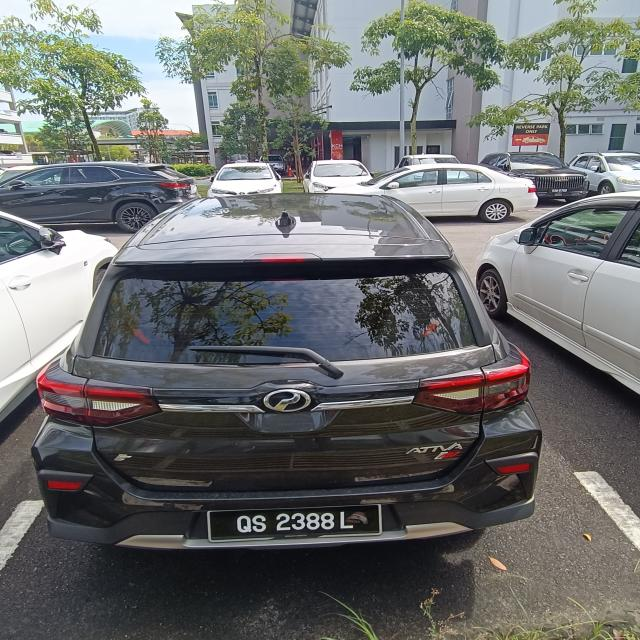PeroduaAtiva: (30, 190, 543, 552)
